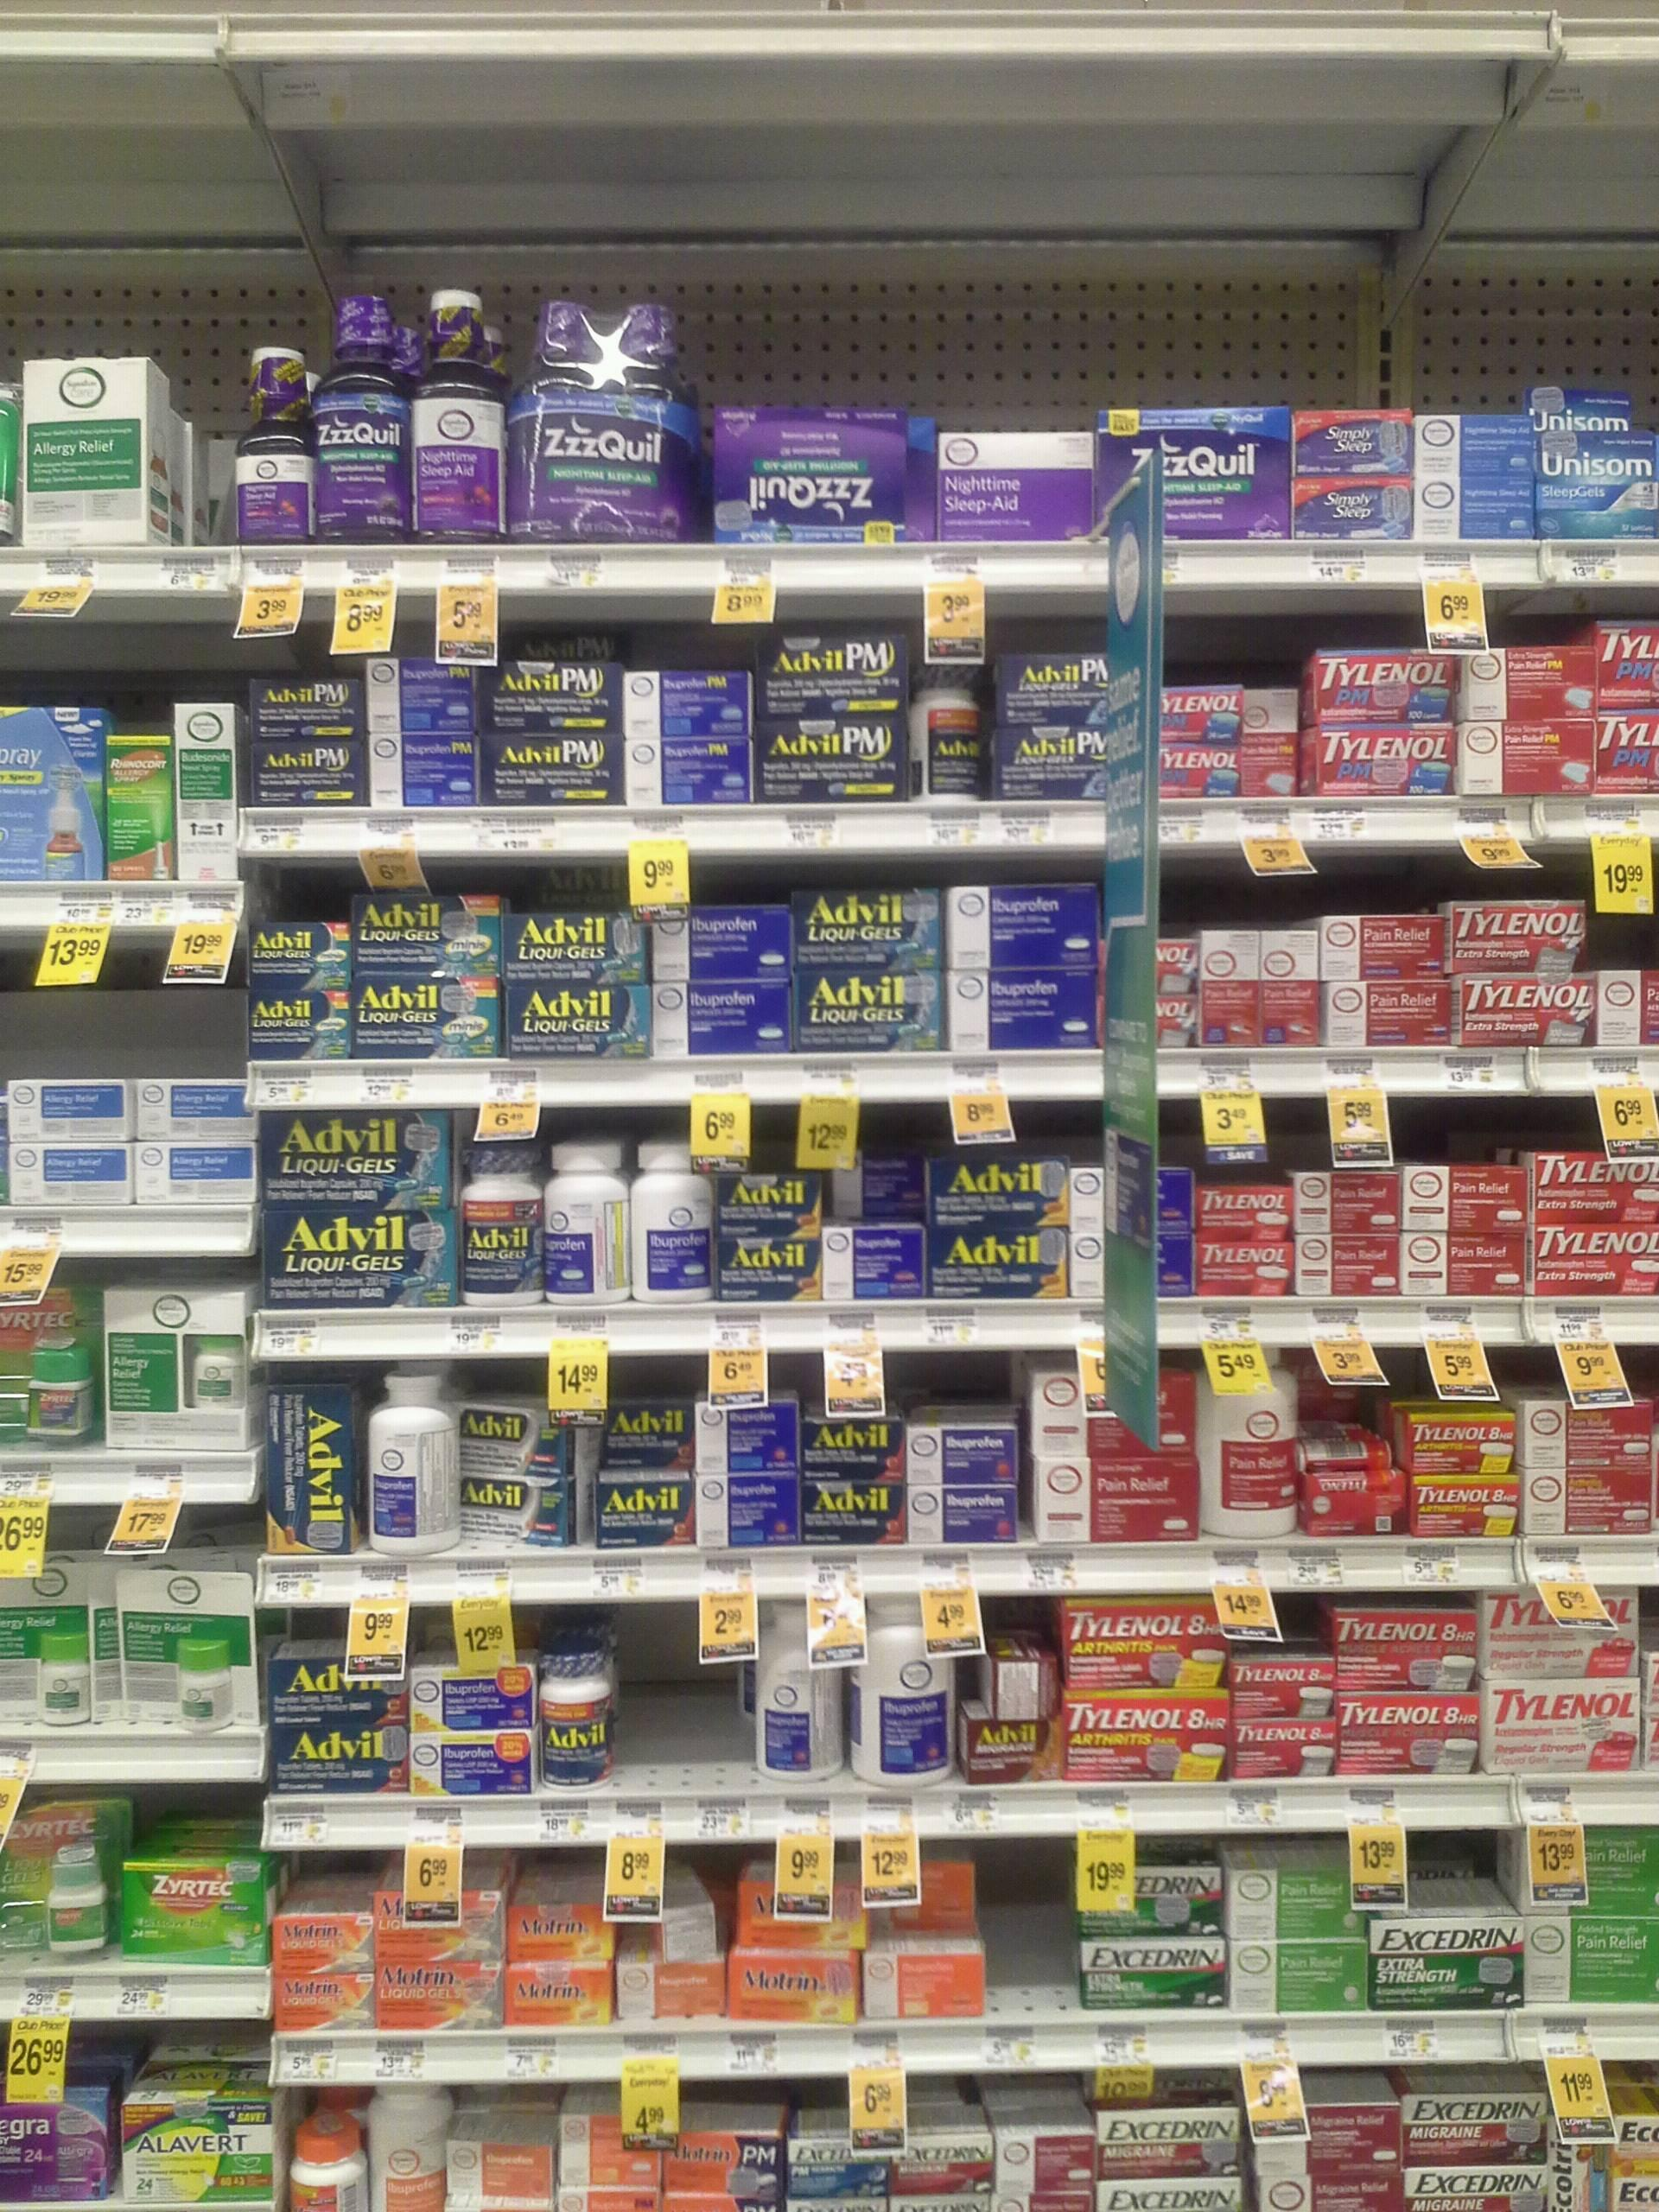misalignment: (462, 1390, 594, 1545), (256, 1385, 366, 1555), (622, 1864, 739, 1963), (979, 1620, 1066, 1723)
